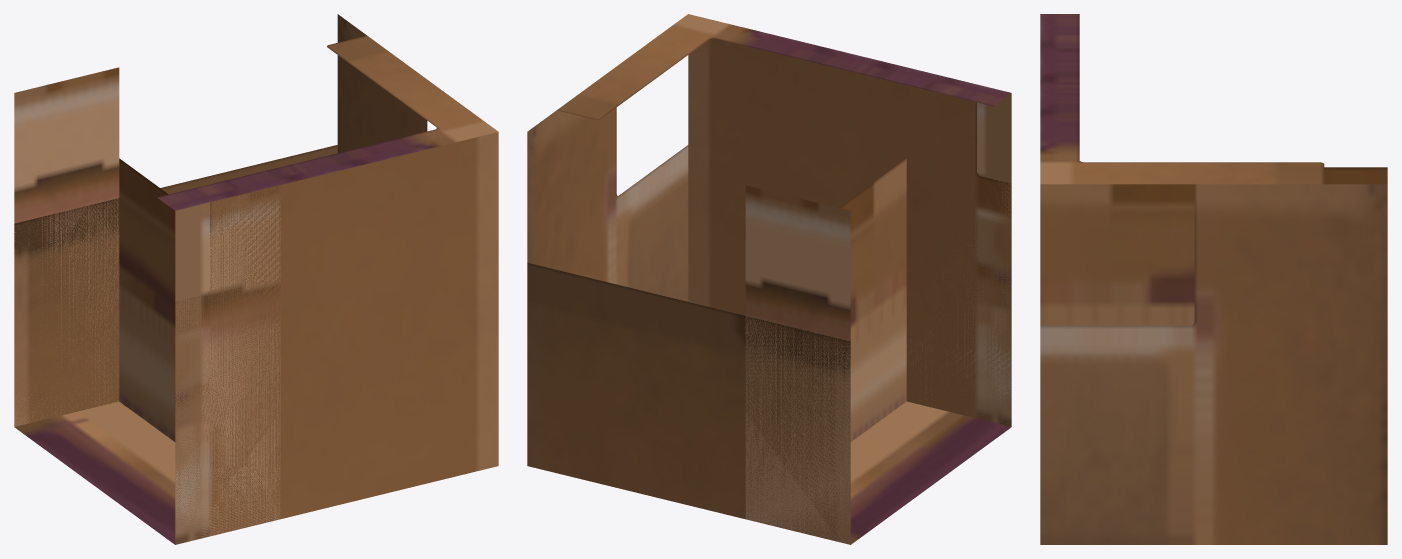
File: section-7.obj
3 views of the same model, side by side, from view 1: azimuth 30°, elevation 25°; view 2: azimuth 150°, elevation 25°; view 3: azimuth 270°, elevation 25° (orthographic). The views are drawn at different scales.
Bounding box in the file's own units: 0.9628 × 0.95 × 0.83.
